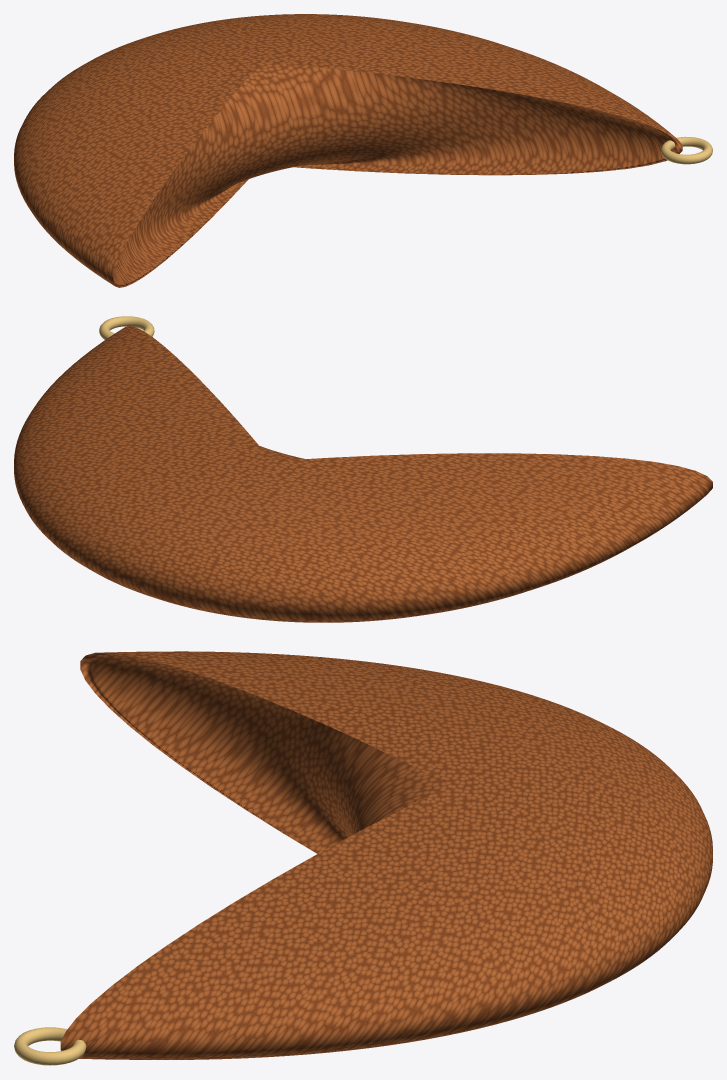
The model's file is aurelis_hobo_bag.obj.
3 views of the same model, one above another, from view 1: azimuth 30°, elevation 25°; view 2: azimuth 150°, elevation 25°; view 3: azimuth 270°, elevation 25° (orthographic). The views are drawn at different scales.
Visible parts, largest first — view 1: HoboBag_Body, HoboBag_Hardware_Buckle; view 2: HoboBag_Body, HoboBag_Hardware_Buckle; view 3: HoboBag_Body, HoboBag_Hardware_Buckle.
Boxes of the visible parts, x1=… form: HoboBag_Body: x1=14, y1=14, x2=682, y2=287; HoboBag_Hardware_Buckle: x1=661, y1=136, x2=712, y2=164; HoboBag_Body: x1=14, y1=325, x2=712, y2=622; HoboBag_Hardware_Buckle: x1=99, y1=316, x2=154, y2=339; HoboBag_Body: x1=60, y1=651, x2=712, y2=1059; HoboBag_Hardware_Buckle: x1=14, y1=1027, x2=86, y2=1065.
Size of the model in its own units: 288 by 48 by 214.
Materials: 2 (1 with a texture image).
